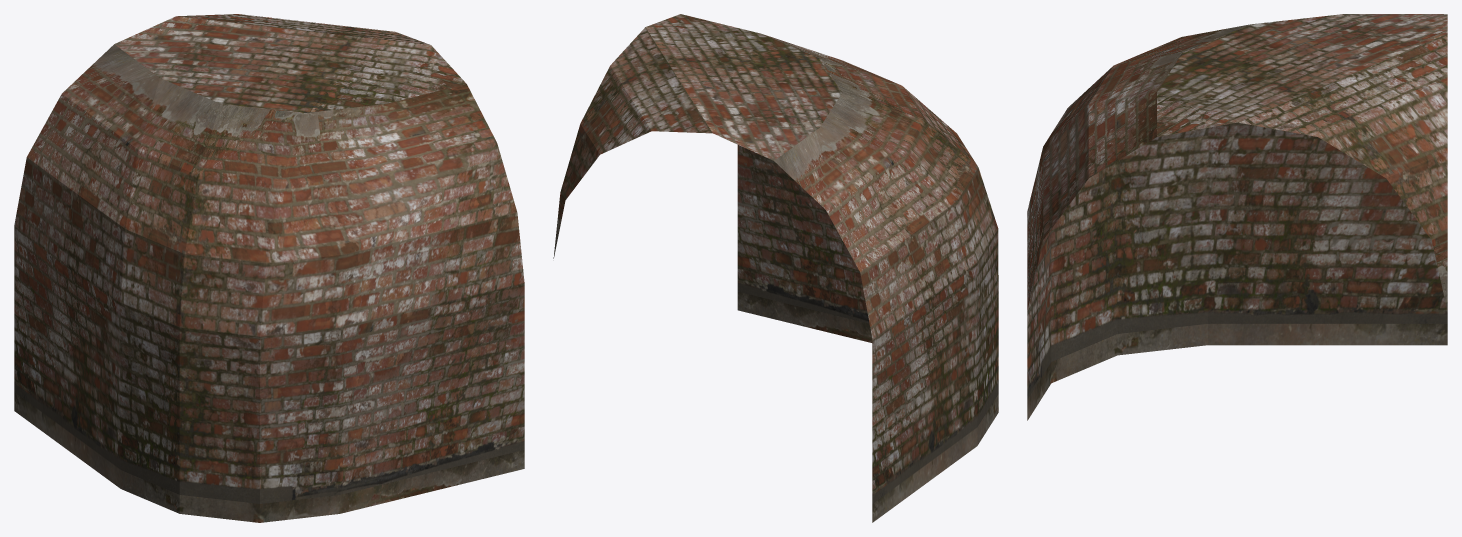
Rendered from tunnel_Wall2_GEO.fbx.
3 renders of one model, left to right at view 1: azimuth 30°, elevation 25°; view 2: azimuth 150°, elevation 25°; view 3: azimuth 270°, elevation 25°, orthographic. The views are drawn at different scales.
Visible parts, largest first — view 1: tunnel_Wall2_GEO; view 2: tunnel_Wall2_GEO; view 3: tunnel_Wall2_GEO.
Boxes of the visible parts, bbox=[...] form: tunnel_Wall2_GEO: bbox=[14, 14, 524, 522]; tunnel_Wall2_GEO: bbox=[553, 14, 998, 522]; tunnel_Wall2_GEO: bbox=[1027, 14, 1447, 420].
Size of the model in its own units: 5 by 5.25 by 5.
